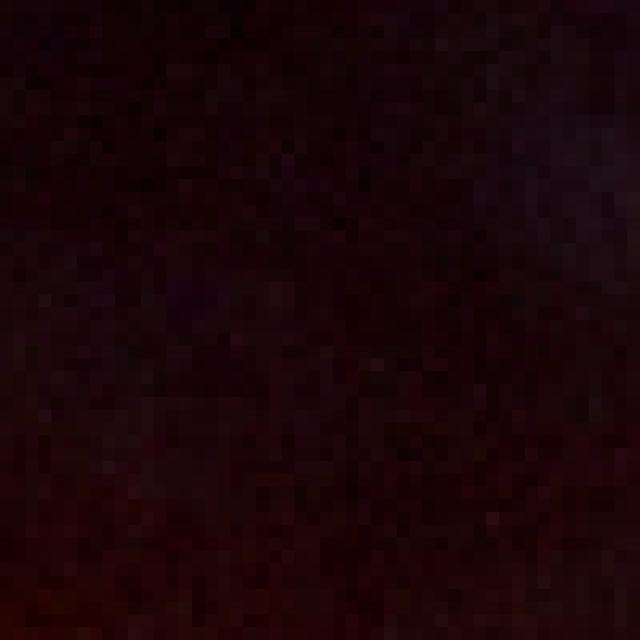fire: (13, 13, 614, 640)
